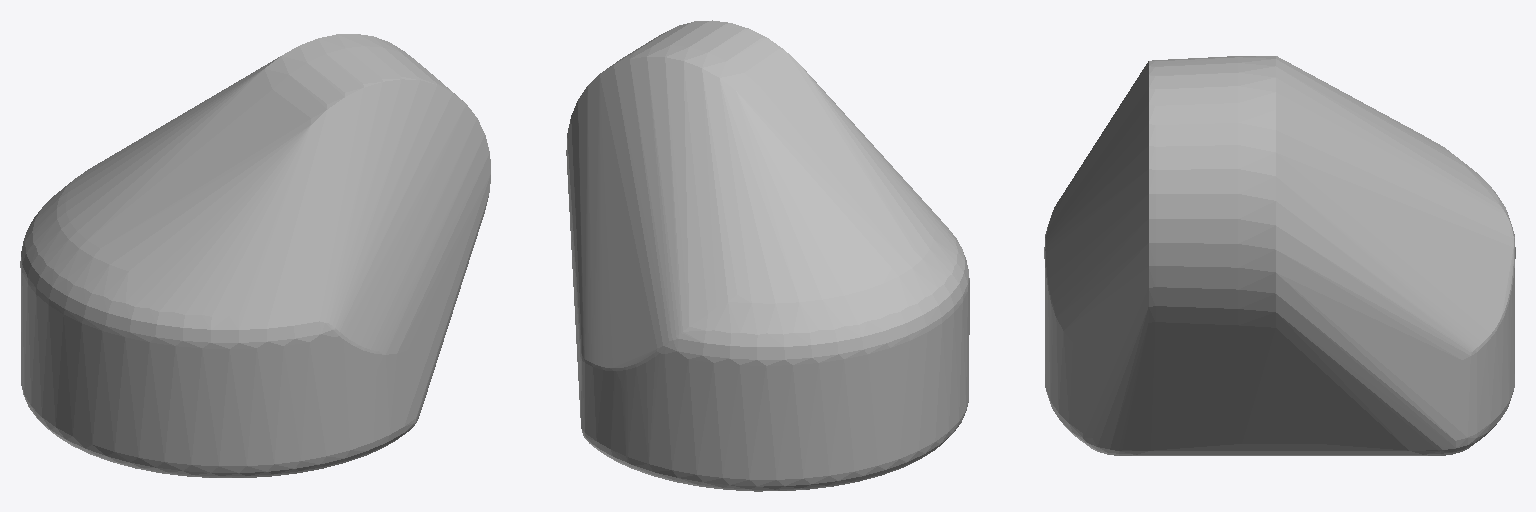
The robot description file, URDF, robot "root":
<?xml version='1.0' encoding='utf-8'?>
<robot name="root">
  <link name="link_001">
    <visual>
      <origin xyz="0 0 0" rpy="0 0 0" />
      <geometry>
        <mesh filename="90d3ff66790190185fcaa8a5f9250bbed21292ef12f81b9241e5bfe489e9512f_scale_127.stl" scale="1.0000E+00 1.0000E+00 1.0000E+00" />
      </geometry>
      <material name="">
        <color rgba="7.50E-01 7.50E-01 7.50E-01 1" />
      </material>
    </visual>
    <collision>
      <origin xyz="0 0 0" rpy="0 0 0" />
      <geometry>
        <mesh filename="90d3ff66790190185fcaa8a5f9250bbed21292ef12f81b9241e5bfe489e9512f_scale_127.stl" scale="1.0000E+00 1.0000E+00 1.0000E+00" />
      </geometry>
    </collision>
  </link>
</robot>

--- Render facts (derived) ---
Views: 3 orthographic renders of the robot side by side, from view 1: azimuth 30°, elevation 25°; view 2: azimuth 150°, elevation 25°; view 3: azimuth 270°, elevation 25°.
Model root with 1 links and 0 joints (none), rooted at link_001, posed every joint at zero.
Links seen in each view (by area): view 1: link_001; view 2: link_001; view 3: link_001.
Link boxes in pixels (box(x1,y1,x2,y2)): link_001: box(20, 34, 490, 477); link_001: box(566, 20, 969, 491); link_001: box(1044, 56, 1515, 455).
Bounding box of the posed robot: 0.117 × 0.109 × 0.0966 m (x, y, z).
1 mesh visuals loaded from 1 distinct referenced files (1 binary STL).
